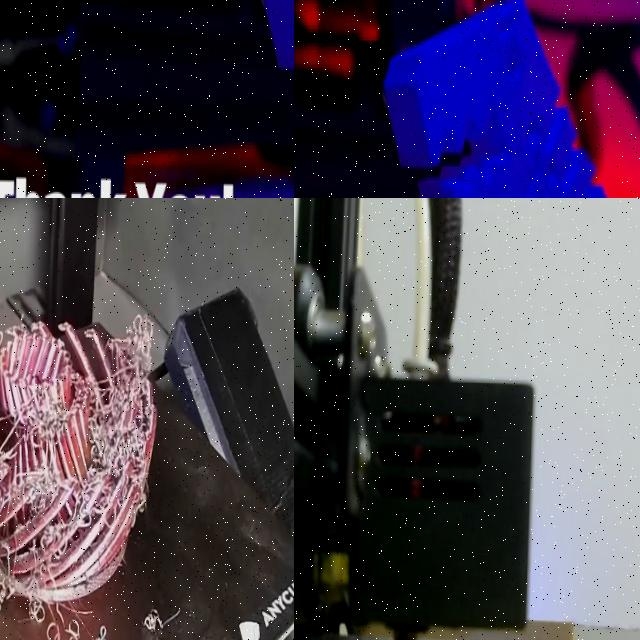spaghetti: (0, 304, 188, 640)
